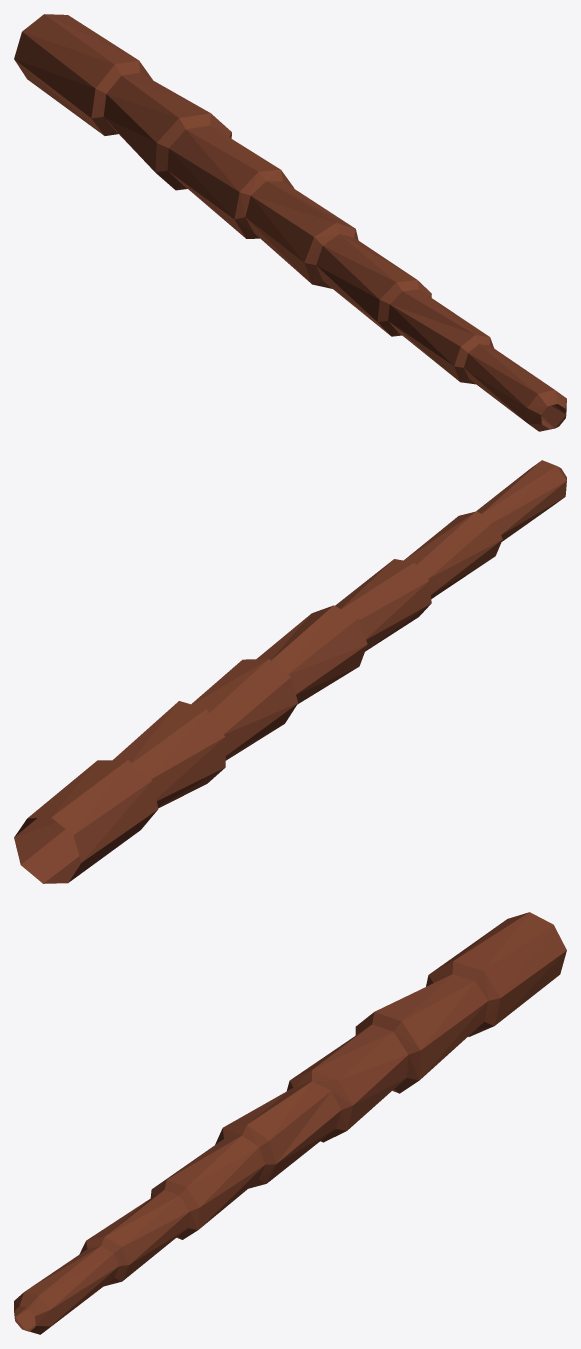
File: Palm.glb
3 renders of one model, top to bottom at view 1: azimuth 30°, elevation 25°; view 2: azimuth 150°, elevation 25°; view 3: azimuth 330°, elevation 25°, orthographic.
Visible parts, largest first — view 1: Palm; view 2: Palm; view 3: Palm.
Part boxes in pixels (x1=…): Palm: x1=14, y1=14, x2=566, y2=431; Palm: x1=14, y1=460, x2=566, y2=883; Palm: x1=14, y1=912, x2=566, y2=1334.
Size of the model in its own units: 0.4144 by 0.414 by 5.1.
Materials: 1 (1 with a texture image).
